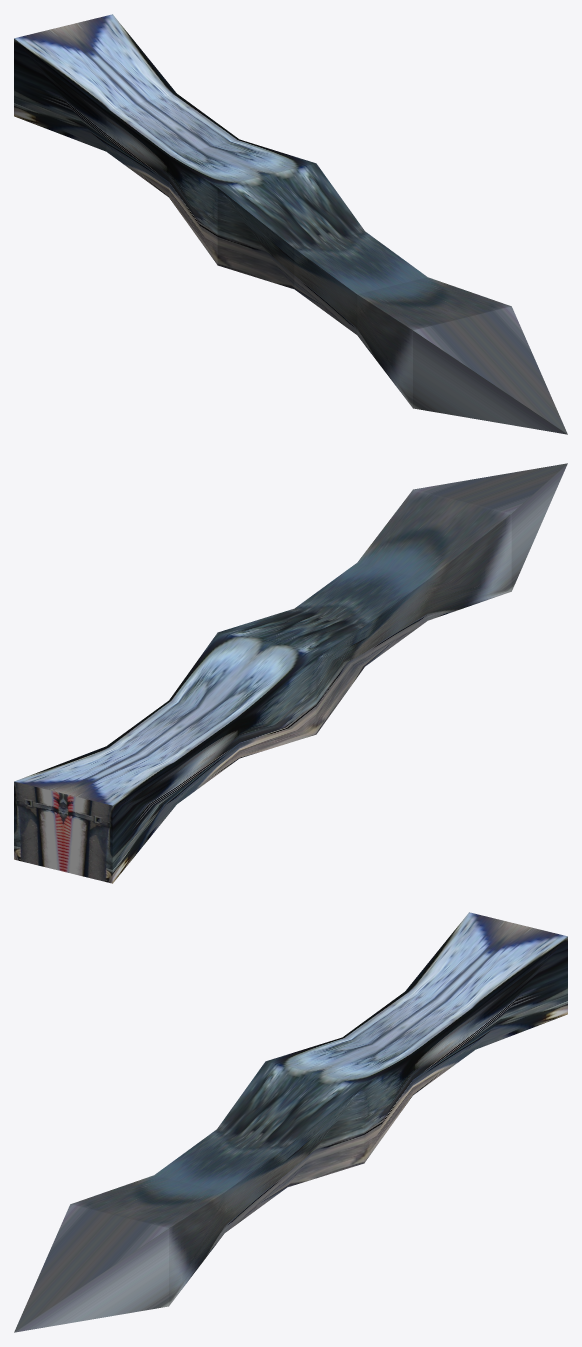
3 renders of one model, top to bottom at view 1: azimuth 30°, elevation 25°; view 2: azimuth 150°, elevation 25°; view 3: azimuth 330°, elevation 25°, orthographic.
Visible parts, largest first — view 1: Spike.001_Cube.022; view 2: Spike.001_Cube.022; view 3: Spike.001_Cube.022.
Boxes of the visible parts, bbox=[...] form: Spike.001_Cube.022: bbox=[14, 14, 567, 434]; Spike.001_Cube.022: bbox=[14, 463, 567, 883]; Spike.001_Cube.022: bbox=[14, 912, 567, 1332].
Size of the model in its own units: 1.39 by 1.05 by 12.34.
